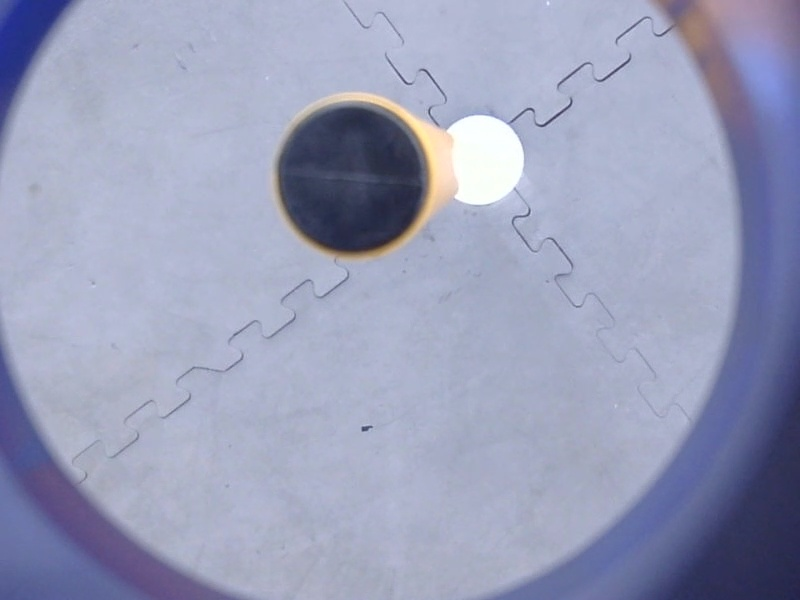tip: (256, 82, 448, 268)
